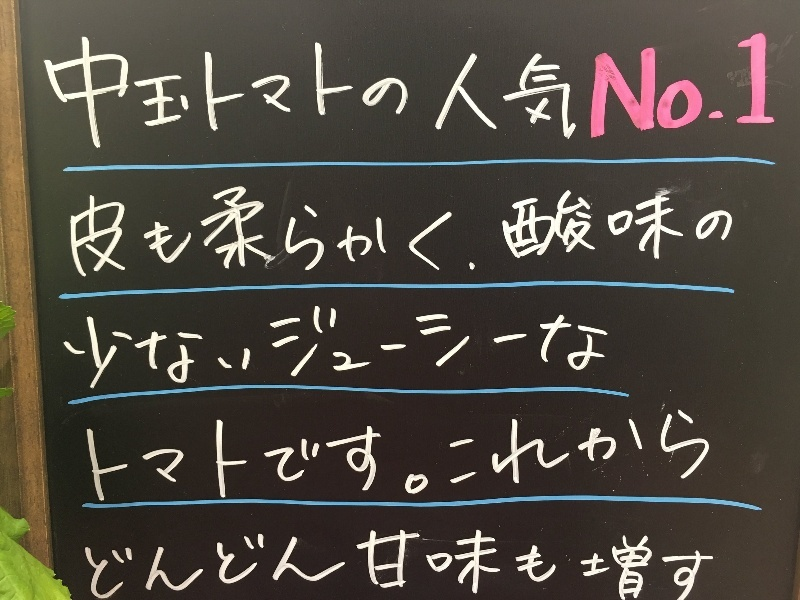text: (49, 37, 64, 150), (65, 37, 80, 150), (81, 37, 96, 150), (97, 37, 112, 150), (113, 37, 128, 150), (129, 37, 144, 150), (145, 37, 160, 150), (161, 37, 176, 150), (177, 37, 192, 150), (193, 37, 208, 150), (209, 37, 224, 150), (225, 37, 240, 150), (241, 37, 256, 150), (257, 37, 272, 150), (273, 37, 288, 150), (289, 37, 304, 150), (305, 37, 320, 150), (321, 37, 336, 150), (337, 37, 352, 150), (353, 37, 368, 150), (369, 37, 384, 150), (385, 37, 400, 150), (401, 37, 416, 150), (417, 37, 432, 150), (433, 37, 448, 150), (449, 37, 464, 150), (465, 37, 480, 150), (481, 37, 496, 150), (497, 37, 512, 150), (513, 37, 528, 150), (529, 37, 544, 150), (545, 37, 560, 150), (561, 37, 576, 150), (609, 32, 624, 143), (625, 32, 640, 143), (641, 32, 656, 143), (657, 32, 672, 143), (673, 32, 688, 143), (689, 32, 704, 143), (705, 32, 720, 143), (721, 32, 736, 143), (737, 32, 752, 143), (753, 32, 768, 143), (97, 408, 112, 507), (113, 408, 128, 507), (129, 408, 144, 507), (145, 408, 160, 507), (161, 408, 176, 507), (177, 408, 192, 507), (193, 408, 208, 507), (209, 408, 224, 507), (225, 408, 240, 507), (241, 408, 256, 507), (257, 408, 272, 507), (273, 408, 288, 507), (289, 408, 304, 507), (305, 408, 320, 507), (321, 408, 336, 507), (337, 408, 352, 507), (353, 408, 368, 507), (369, 408, 384, 507), (385, 408, 400, 507), (401, 408, 416, 507), (417, 408, 432, 507), (433, 408, 448, 507), (449, 408, 464, 507), (465, 408, 480, 507), (481, 408, 496, 507), (497, 408, 512, 507), (513, 408, 528, 507), (529, 408, 544, 507), (545, 408, 560, 507), (561, 408, 576, 507), (577, 408, 592, 507), (593, 408, 608, 507), (609, 408, 624, 507), (625, 408, 640, 507), (641, 408, 656, 507), (657, 408, 672, 507), (673, 408, 688, 507), (689, 408, 704, 507), (65, 297, 80, 393), (81, 297, 96, 393), (97, 297, 112, 393), (113, 297, 128, 393), (129, 297, 144, 393), (145, 297, 160, 393), (161, 297, 176, 393), (177, 297, 192, 393), (193, 297, 208, 393), (209, 297, 224, 393), (225, 297, 240, 393), (241, 297, 256, 393), (257, 297, 272, 393), (273, 297, 288, 393), (289, 297, 304, 393), (305, 297, 320, 393), (321, 297, 336, 393), (337, 297, 352, 393), (353, 297, 368, 393), (369, 297, 384, 393), (385, 297, 400, 393), (401, 297, 416, 393), (417, 297, 432, 393), (433, 297, 448, 393), (449, 297, 464, 393), (465, 297, 480, 393), (481, 297, 496, 393), (497, 297, 512, 393), (513, 297, 528, 393), (529, 297, 544, 393), (545, 297, 560, 393), (561, 297, 576, 393), (577, 297, 592, 393), (593, 297, 608, 393), (81, 185, 96, 279), (97, 185, 112, 279), (113, 185, 128, 279), (129, 185, 144, 279), (145, 185, 160, 279), (161, 185, 176, 279), (177, 185, 192, 279), (193, 185, 208, 279), (209, 185, 224, 279), (225, 185, 240, 279), (241, 185, 256, 279), (257, 185, 272, 279), (273, 185, 288, 279), (289, 185, 304, 279), (305, 185, 320, 279), (321, 185, 336, 279), (337, 185, 352, 279), (353, 185, 368, 279), (369, 185, 384, 279), (385, 185, 400, 279), (401, 185, 416, 279), (417, 185, 432, 279), (433, 185, 448, 279), (449, 185, 464, 279), (465, 185, 480, 279), (481, 185, 496, 279), (497, 185, 512, 279), (513, 185, 528, 279), (529, 185, 544, 279), (545, 185, 560, 279), (561, 185, 576, 279), (577, 185, 592, 279), (593, 185, 608, 279), (609, 185, 624, 279), (625, 185, 640, 279), (641, 185, 656, 279), (657, 185, 672, 279), (673, 185, 688, 279), (689, 185, 704, 279), (705, 185, 720, 279), (596, 32, 608, 143), (721, 185, 734, 279), (84, 408, 96, 507), (97, 526, 112, 600), (113, 526, 128, 600), (129, 526, 144, 600), (145, 526, 160, 600), (161, 526, 176, 600), (177, 526, 192, 600), (193, 526, 208, 600), (209, 526, 224, 600), (225, 526, 240, 600), (241, 526, 256, 600), (257, 526, 272, 600), (273, 526, 288, 600), (289, 526, 304, 600), (305, 526, 320, 600), (321, 526, 336, 600), (337, 526, 352, 600), (353, 526, 368, 600), (369, 526, 384, 600), (385, 526, 400, 600), (401, 526, 416, 600), (417, 526, 432, 600), (433, 526, 448, 600), (449, 526, 464, 600), (465, 526, 480, 600), (481, 526, 496, 600), (497, 526, 512, 600), (513, 526, 528, 600), (529, 526, 544, 600), (545, 526, 560, 600), (561, 526, 576, 600), (577, 526, 592, 600), (593, 526, 608, 600), (609, 526, 624, 600), (625, 526, 640, 600), (641, 526, 656, 600), (657, 526, 672, 600), (673, 526, 688, 600), (689, 526, 704, 600), (70, 185, 80, 279), (84, 526, 96, 600), (705, 526, 716, 600), (769, 32, 776, 143), (705, 408, 712, 507), (42, 37, 48, 150), (62, 297, 64, 393), (577, 37, 578, 150)
